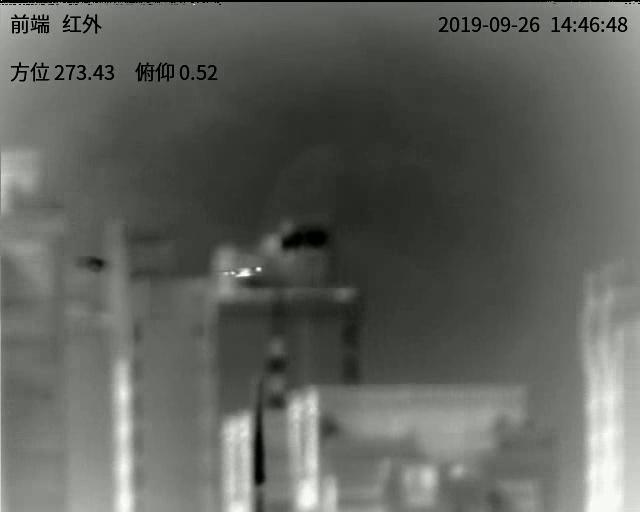DRONE: (224, 266, 262, 277)
